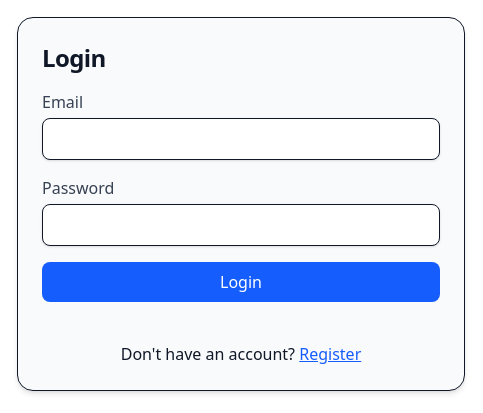
Test: Login Page - Unit Tests › should display loading spinner while submitting
The width and height of the screenshot is (483, 413).
Type "test@email.com" into the field labelled "Email".
click(241, 139); type("test@email.com")  # box [42,118,440,160]
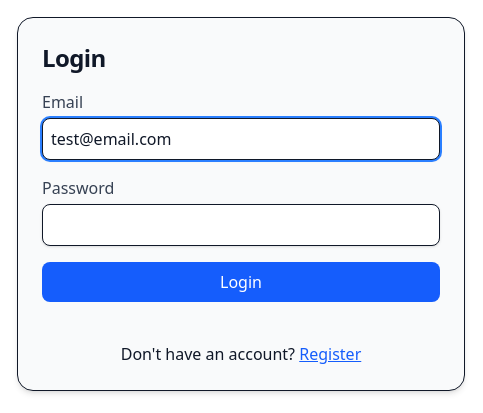
Type "ValidP@ss123" into the password field labelled "Password".
click(241, 225); type("ValidP@ss123")  # box [42,204,440,246]
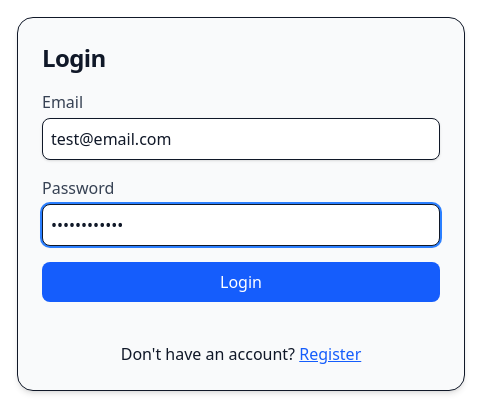
Click the button "Login".
click(241, 282)  # box [42,262,440,302]
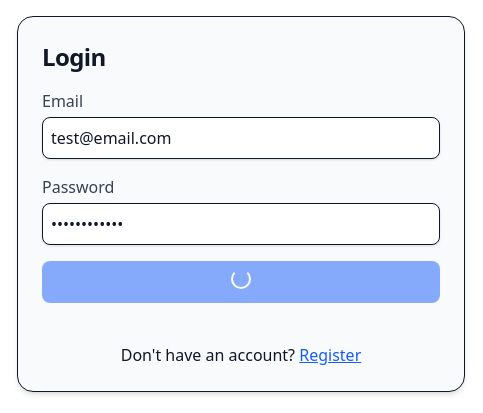
Check: the button is disabled, box [42,261,440,303]
Check: the element with test id "spinner" is shown, box [231,269,251,289]
